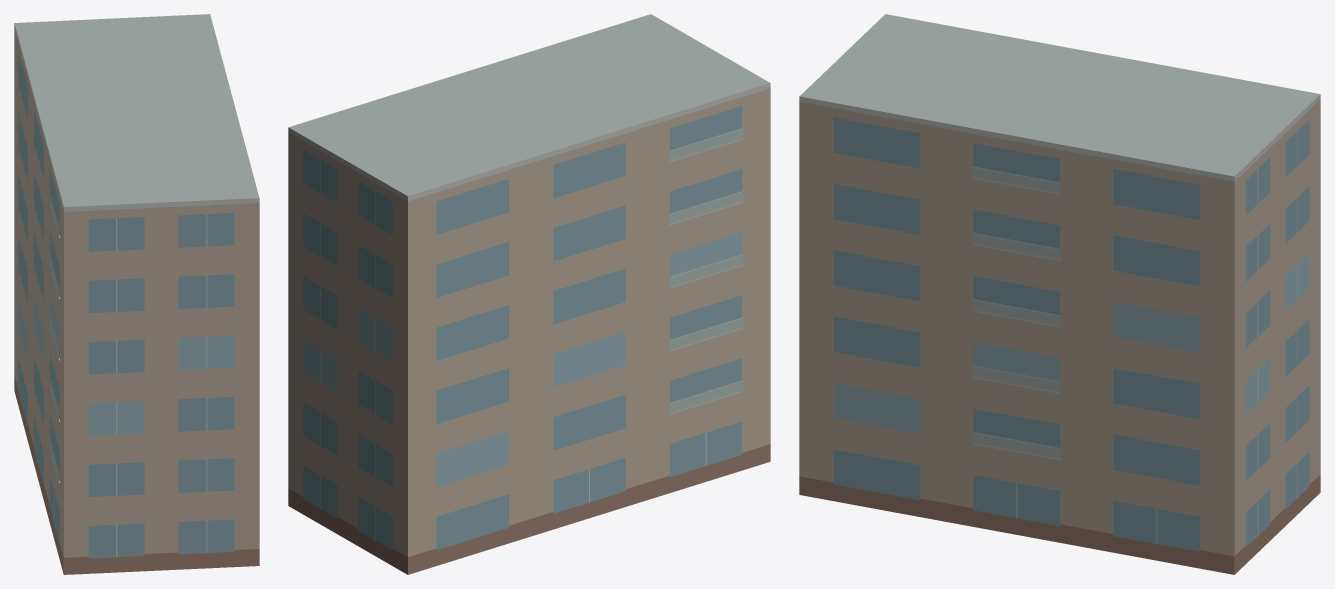
The model's file is survey-upis-32921435.glb.
The picture shows the model from 3 angles, left to right: view 1: azimuth 30°, elevation 25°; view 2: azimuth 150°, elevation 25°; view 3: azimuth 270°, elevation 25°; orthographic projection. The views are drawn at different scales.
Visible parts, largest first — view 1: survey-upis-32921435.tmp; view 2: survey-upis-32921435.tmp; view 3: survey-upis-32921435.tmp.
Boxes of the visible parts, <box> form: survey-upis-32921435.tmp: <box>14,14,259,574</box>; survey-upis-32921435.tmp: <box>288,14,770,574</box>; survey-upis-32921435.tmp: <box>799,14,1320,574</box>.
Bounding box in the file's own units: 16.02 × 18.3 × 21.71.
